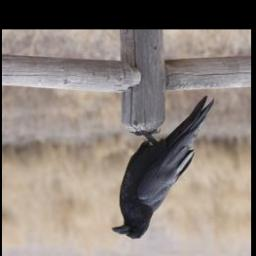Crow: (110, 94, 216, 242)
